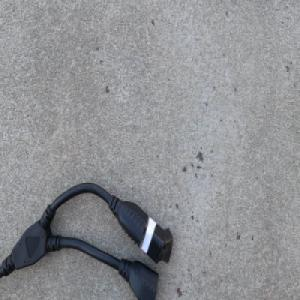Wire: (0, 180, 174, 300)
